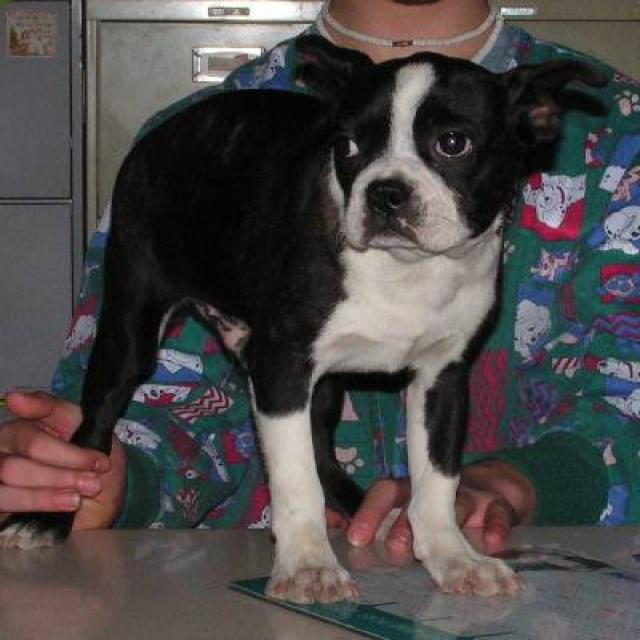Dog: (270, 14, 621, 264)
